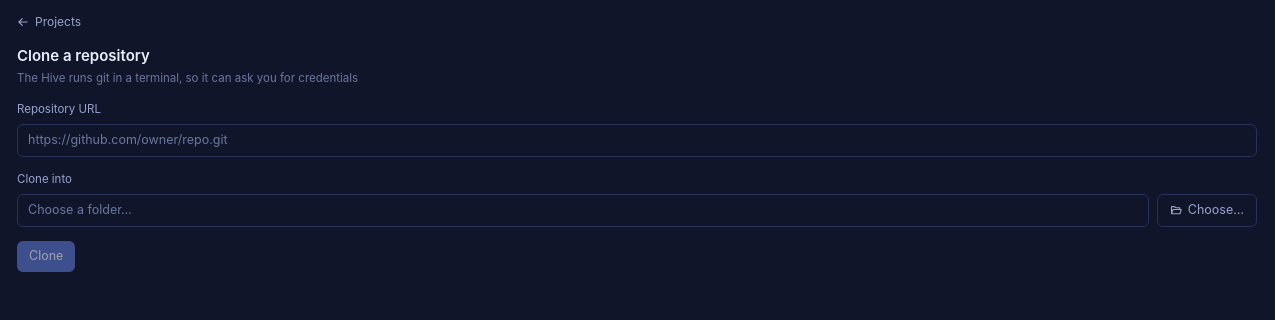
Test: CloneRepoView › offers Retry and Back when the clone fails
In the field labelled "Repository URL": point(637, 140) [17,124,1257,157], type "https://github.com/behiques/the-hive.git"
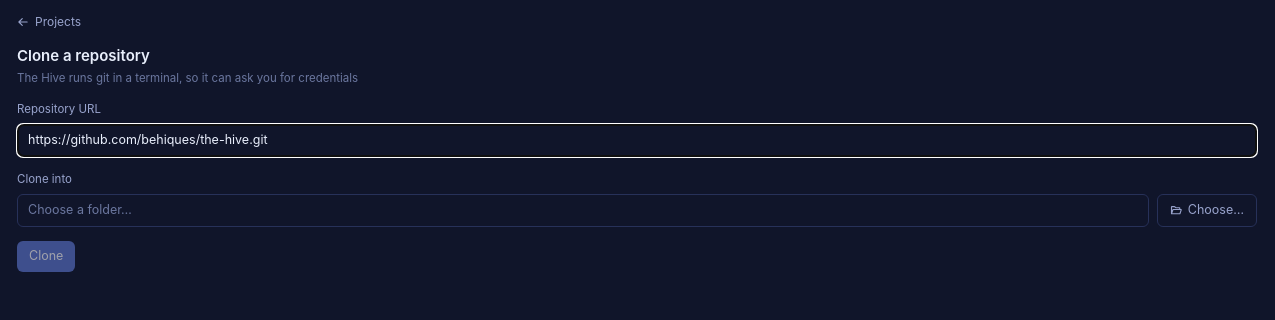
Click the button "Choose…": point(1207, 210) [1157,194,1257,227]
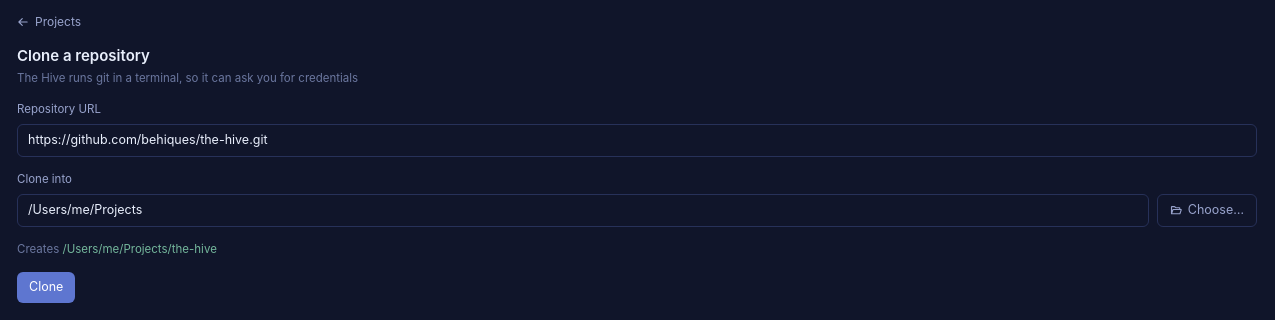
Click the button "Clone": point(46, 287) [17,272,75,303]
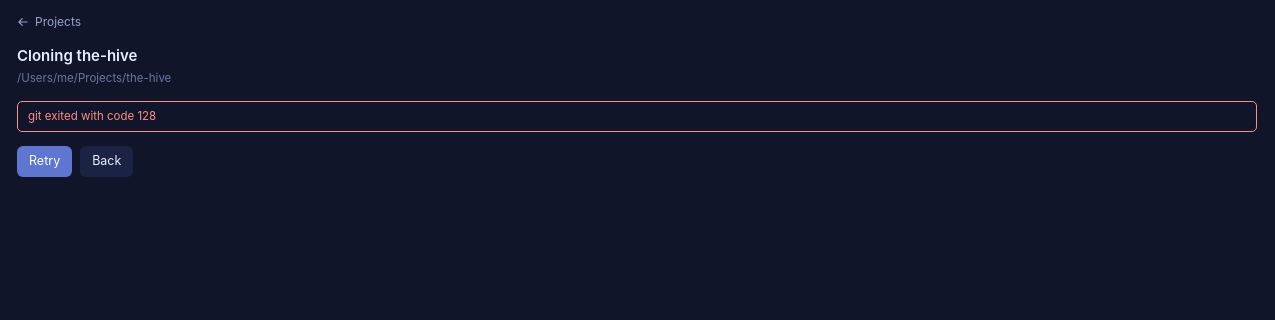
Check: the text "git exited with code 128" is shown, box [17,101,1257,132]
Check: the button "Retry" is shown, box [17,146,72,177]
Check: the button "Back" is shown, box [80,146,133,177]
